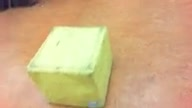cube: (27, 26, 113, 108)
